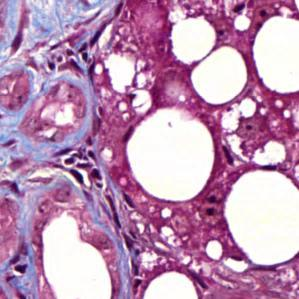steatosis: (130, 105, 211, 206)
